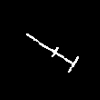double_crochet: (26, 34, 78, 71)
